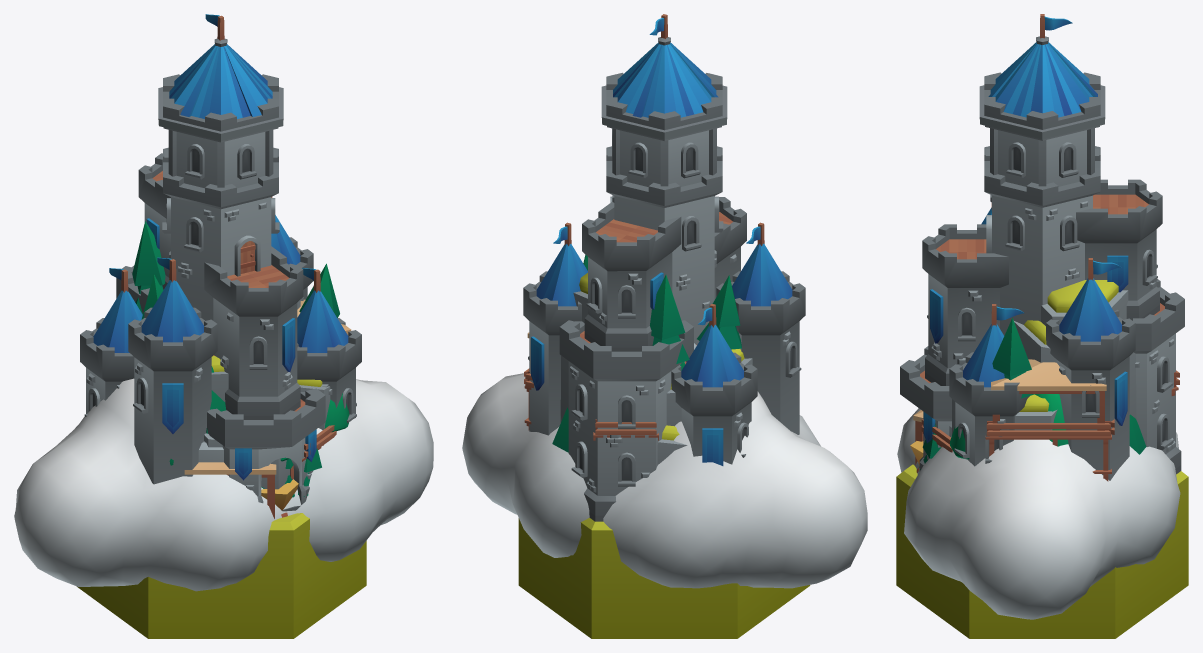
The model's file is kit.glb.
The picture shows the model from 3 angles, left to right: view 1: azimuth 30°, elevation 25°; view 2: azimuth 150°, elevation 25°; view 3: azimuth 270°, elevation 25°; orthographic projection.
Visible parts, largest first — view 1: building_castle_blue, cloud_big, hex_grass, mountain_A_grass_trees, building_scaffolding, trees_B_large; view 2: building_castle_blue, cloud_big, hex_grass, mountain_A_grass_trees, mountain_B_grass, building_scaffolding; view 3: building_castle_blue, cloud_big, hex_grass, building_scaffolding, mountain_B_grass, mountain_A_grass_trees, trees_A_large, trees_B_medium.
Boxes of the visible parts, x1=… form: building_castle_blue: x1=80, y1=14, x2=361, y2=511; cloud_big: x1=14, y1=378, x2=433, y2=591; hex_grass: x1=77, y1=513, x2=366, y2=638; mountain_A_grass_trees: x1=132, y1=221, x2=339, y2=447; building_scaffolding: x1=184, y1=299, x2=351, y2=518; trees_B_large: x1=169, y1=393, x2=349, y2=488; building_castle_blue: x1=523, y1=14, x2=805, y2=521; cloud_big: x1=462, y1=373, x2=867, y2=588; hex_grass: x1=518, y1=518, x2=810, y2=638; mountain_A_grass_trees: x1=560, y1=255, x2=752, y2=465; mountain_B_grass: x1=560, y1=273, x2=687, y2=464; building_scaffolding: x1=524, y1=332, x2=658, y2=440; building_castle_blue: x1=900, y1=14, x2=1184, y2=480; cloud_big: x1=897, y1=408, x2=1180, y2=619; hex_grass: x1=896, y1=464, x2=1188, y2=638; building_scaffolding: x1=913, y1=359, x2=1179, y2=481; mountain_B_grass: x1=1014, y1=280, x2=1136, y2=430; mountain_A_grass_trees: x1=952, y1=318, x2=1035, y2=434; trees_A_large: x1=919, y1=414, x2=1146, y2=469; trees_B_medium: x1=1035, y1=394, x2=1068, y2=446.
Size of the model in its own units: 3.61 by 4.98 by 2.31.
Materials: 1 (1 with a texture image).
